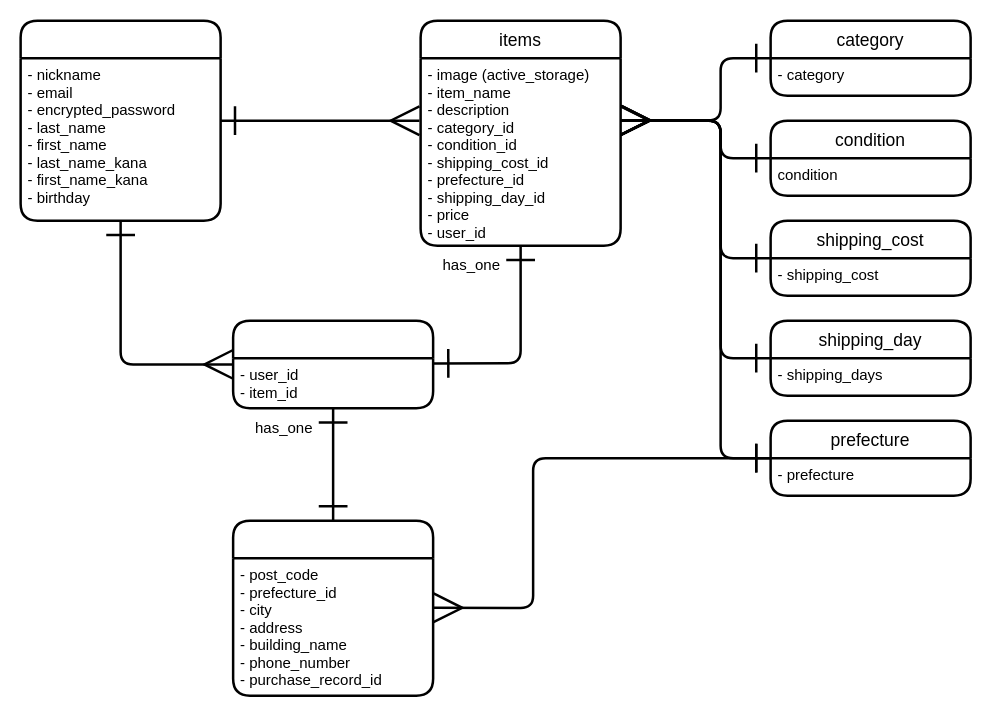
Image size: 991x716. Some labels were removed from this diagram. Each missing label, with the box of its shape:
purchase_record: (231, 319, 434, 409)
shipping_address: (231, 519, 434, 696)
users: (19, 19, 221, 221)
